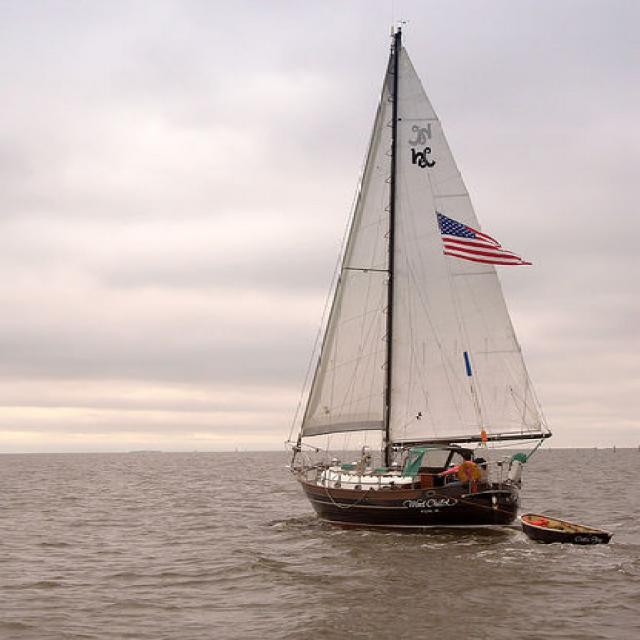Ship: (292, 34, 555, 524)
